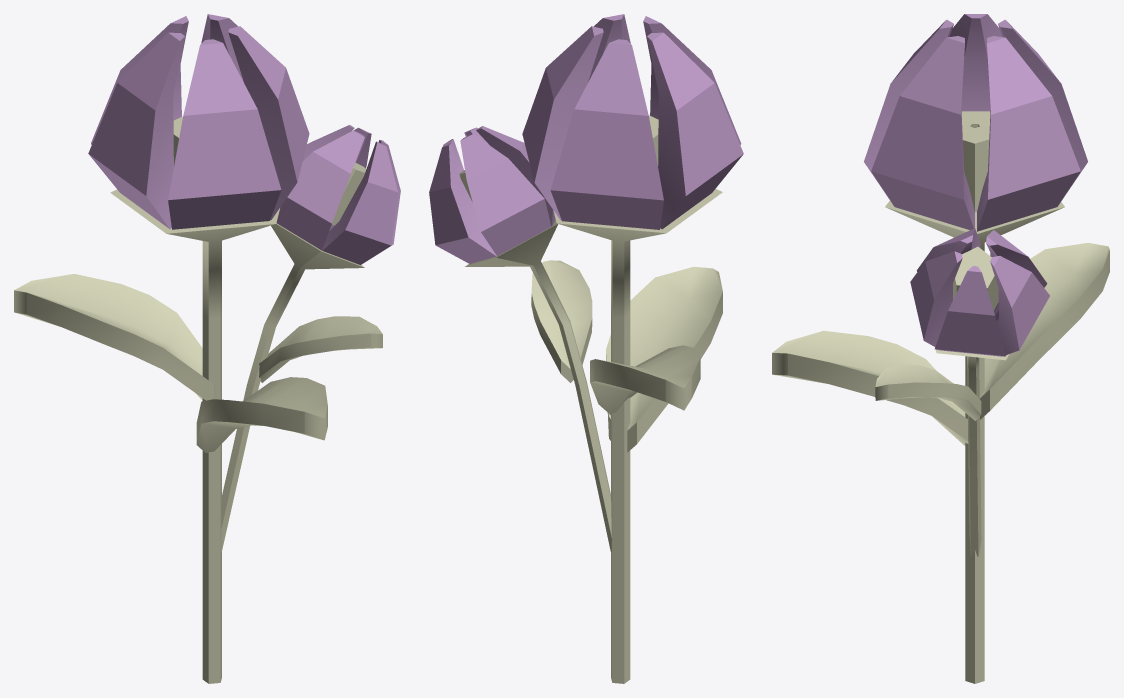
The model's file is flower01.fbx.
The picture shows the model from 3 angles, left to right: view 1: azimuth 30°, elevation 25°; view 2: azimuth 150°, elevation 25°; view 3: azimuth 270°, elevation 25°; orthographic projection.
Parts seen in each view (by area): view 1: pPipe2, pPipe9, pCube2, pPipe3, pCube1, pPipe10, pCube5, pPipe11; view 2: pPipe2, pPipe9, pPipe3, pCube1, pCube2, pPipe10, pCube5; view 3: pPipe2, pPipe9, pCube2, pCube1, pPipe3, pCube5, pPipe10, pPipe4, pPipe11.
Boxes of the visible parts, x1,y1,x2,y2 form: pPipe2: [88, 14, 309, 229]; pPipe9: [276, 125, 400, 264]; pCube2: [14, 274, 214, 400]; pPipe3: [110, 189, 279, 683]; pCube1: [196, 377, 327, 452]; pPipe10: [221, 223, 364, 551]; pCube5: [259, 316, 382, 382]; pPipe11: [332, 162, 366, 225]; pPipe2: [522, 14, 743, 229]; pPipe9: [429, 126, 555, 263]; pPipe3: [553, 188, 722, 683]; pCube1: [606, 266, 722, 452]; pCube2: [590, 345, 700, 415]; pPipe10: [465, 220, 611, 551]; pCube5: [531, 260, 592, 382]; pPipe2: [864, 14, 1087, 231]; pPipe9: [910, 228, 1049, 356]; pCube2: [979, 242, 1109, 419]; pCube1: [772, 330, 968, 445]; pPipe3: [885, 201, 1064, 683]; pCube5: [875, 364, 981, 420]; pPipe10: [935, 349, 1009, 556]; pPipe4: [961, 111, 990, 212]; pPipe11: [953, 246, 998, 310].
Bounding box in the file's own units: 4.8 × 9.64 × 4.56.
